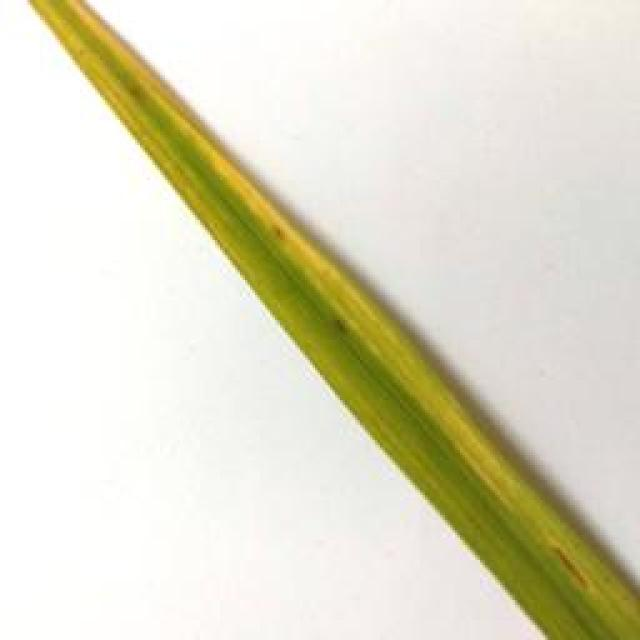Bacterial_Blight: (64, 0, 640, 640), (21, 3, 236, 265)
Brown_Spot: (542, 540, 606, 603), (327, 317, 354, 336)
